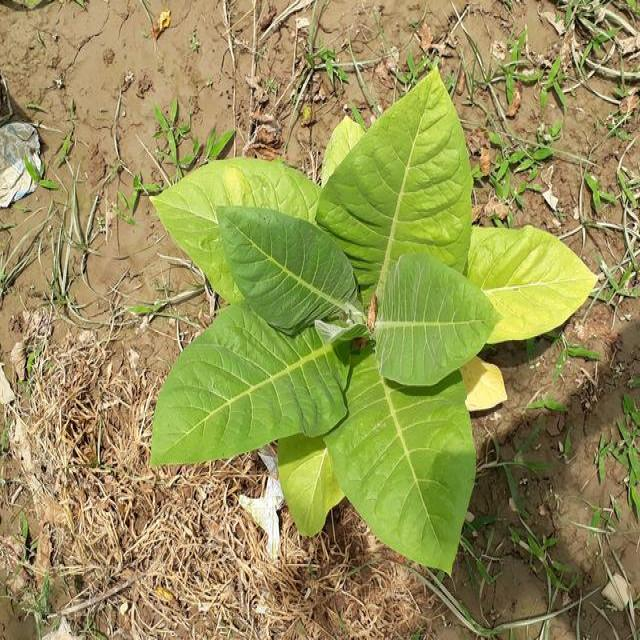crop: (143, 74, 584, 562)
